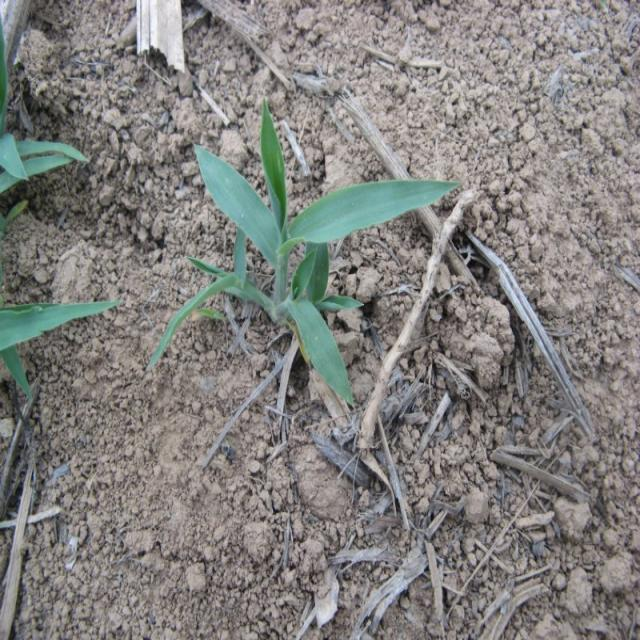bg: (147, 107, 454, 406)
